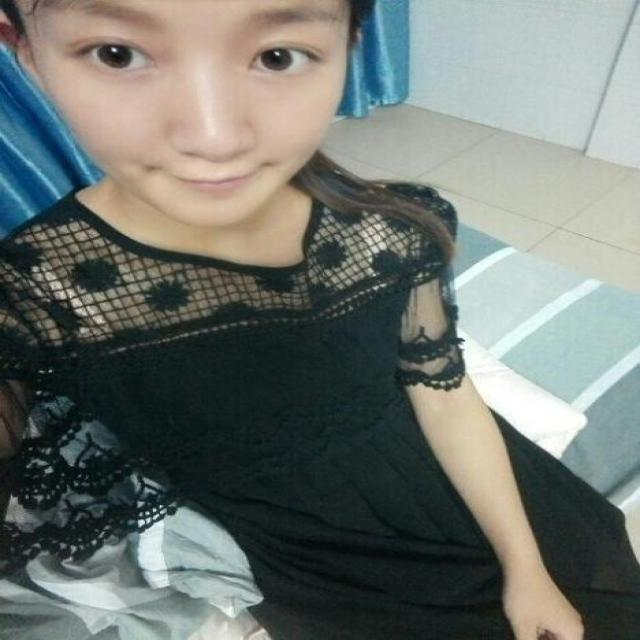short-sleeve-dress: (9, 170, 640, 619)
